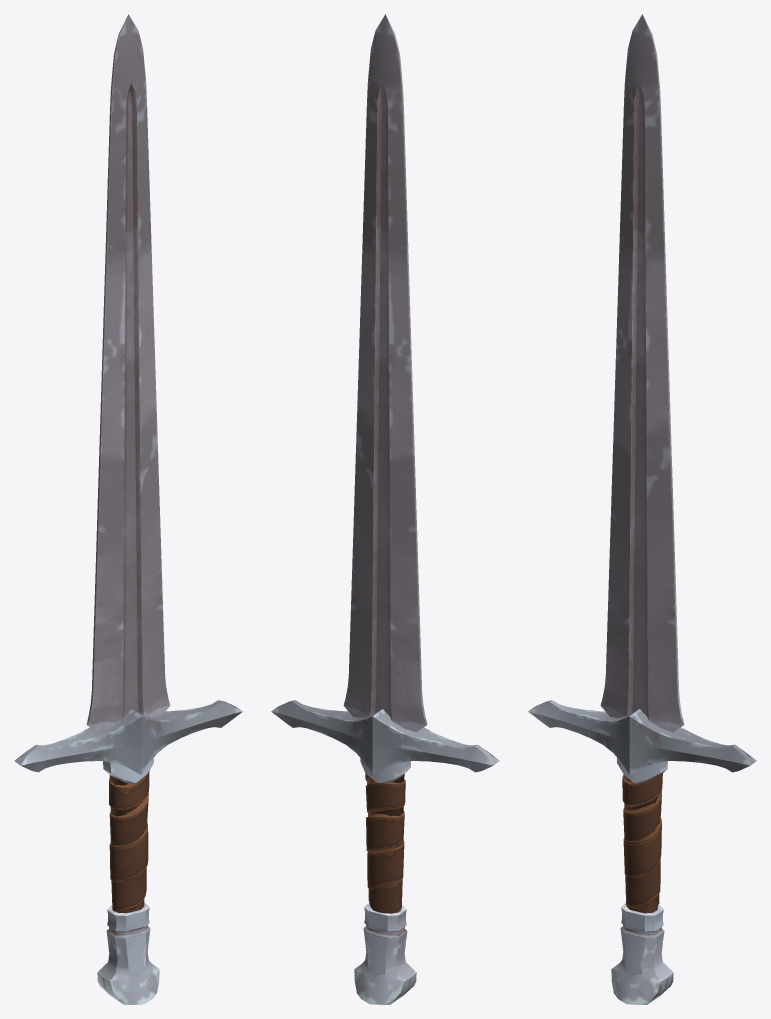
The model's file is Sword_Steel.fbx.
The picture shows the model from 3 angles, left to right: view 1: azimuth 30°, elevation 25°; view 2: azimuth 150°, elevation 25°; view 3: azimuth 330°, elevation 25°; orthographic projection.
Visible parts, largest first — view 1: Sword_Steel; view 2: Sword_Steel; view 3: Sword_Steel.
Part boxes in pixels (box(x1,y1,x2,y2)): Sword_Steel: box(14, 14, 242, 1004); Sword_Steel: box(271, 14, 499, 1004); Sword_Steel: box(528, 14, 756, 1004).
Size of the model in its own units: 26.66 by 113 by 6.54.
